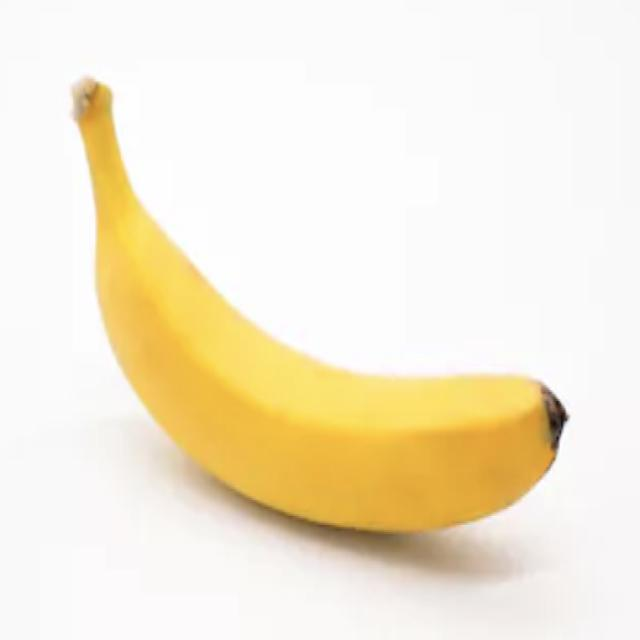fresh-banana: (68, 72, 570, 534)
